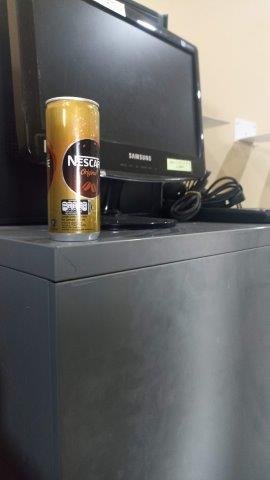kaleng: (47, 96, 101, 241)
